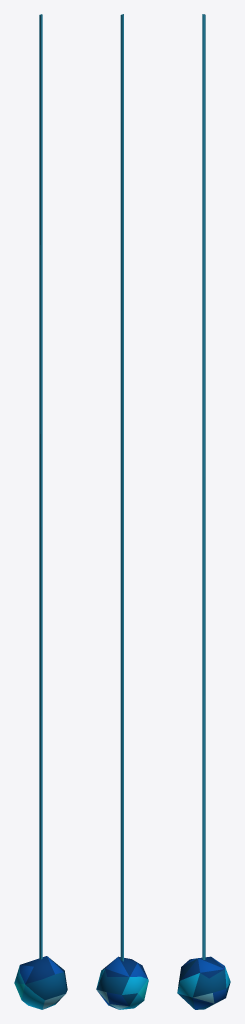
Rendered from PearlLight.fbx.
3 renders of one model, left to right at view 1: azimuth 90°, elevation 25°; view 2: azimuth 210°, elevation 25°; view 3: azimuth 270°, elevation 25°, orthographic.
Visible parts, largest first — view 1: Icosphere.008; view 2: Icosphere.008; view 3: Icosphere.008.
Part boxes in pixels (<box>): Icosphere.008: <box>14,14,67,1009</box>; Icosphere.008: <box>96,14,148,1009</box>; Icosphere.008: <box>177,14,230,1009</box>.
Bounding box in the file's own units: 128 × 2764 × 135.
